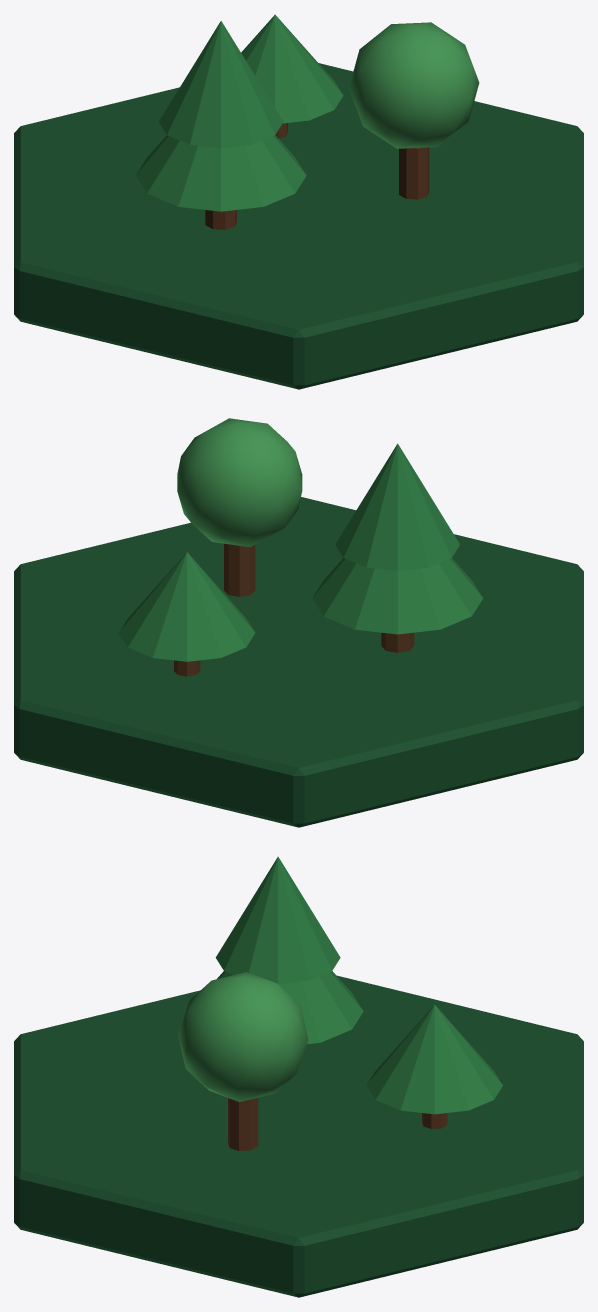
File: wood.glb
3 renders of one model, top to bottom at view 1: azimuth 30°, elevation 25°; view 2: azimuth 150°, elevation 25°; view 3: azimuth 270°, elevation 25°, orthographic.
Visible parts, largest first — view 1: Hex_wood, Icosphere, Cone, Cone.001, Cone.002, Cylinder.002, Cylinder; view 2: Hex_wood, Icosphere, Cone, Cone.001, Cone.002, Cylinder.002, Cylinder; view 3: Hex_wood, Icosphere, Cone.002, Cone.001, Cone, Cylinder.002.
Boxes of the visible parts, <box> form: Hex_wood: <box>14,63,583,389</box>; Icosphere: <box>349,22,479,148</box>; Cone: <box>135,135,306,211</box>; Cone.001: <box>159,21,283,148</box>; Cone.002: <box>241,14,343,123</box>; Cylinder.002: <box>399,147,429,199</box>; Cylinder: <box>205,210,236,229</box>; Hex_wood: <box>14,497,583,827</box>; Icosphere: <box>177,418,302,547</box>; Cone: <box>312,558,482,634</box>; Cone.001: <box>335,443,459,570</box>; Cone.002: <box>119,552,255,661</box>; Cylinder.002: <box>224,543,255,596</box>; Cylinder: <box>381,632,414,652</box>; Hex_wood: <box>14,975,583,1297</box>; Icosphere: <box>178,972,308,1101</box>; Cone.002: <box>366,1004,502,1114</box>; Cone.001: <box>215,856,340,983</box>; Cone: <box>217,971,363,1044</box>; Cylinder.002: <box>228,1097,258,1150</box>.
Bounding box in the file's own units: 1.98 × 0.88 × 1.73.
